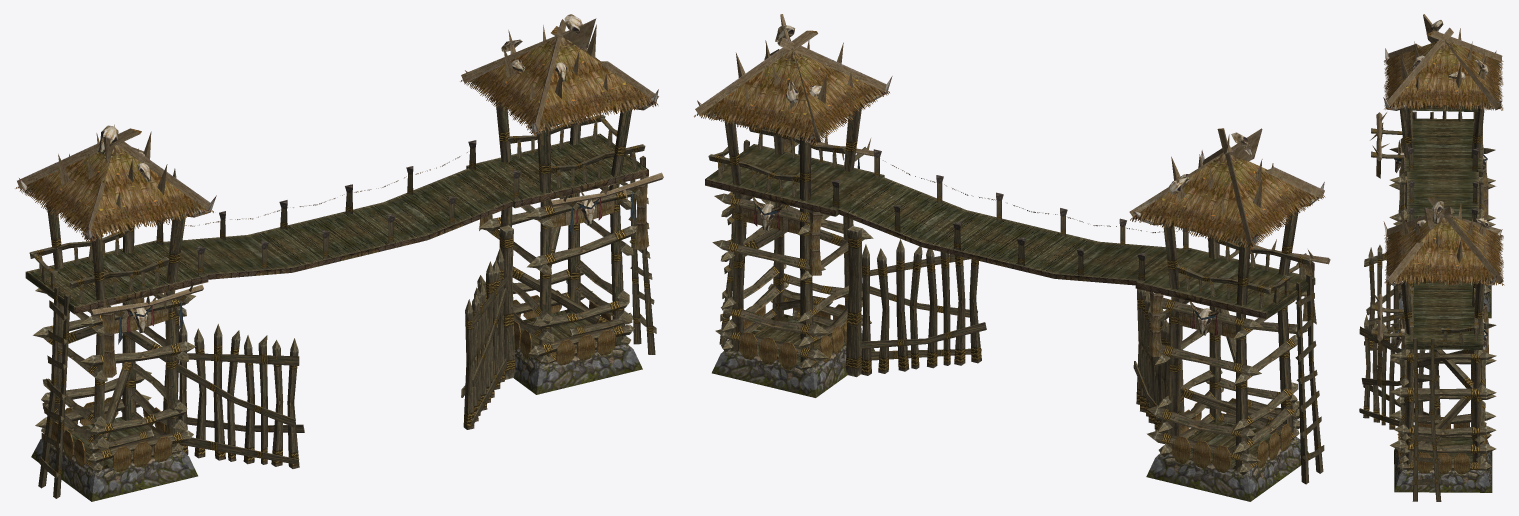
Rendered from menhuan01.FBX.
3 renders of one model, left to right at view 1: azimuth 30°, elevation 25°; view 2: azimuth 150°, elevation 25°; view 3: azimuth 270°, elevation 25°, orthographic. The views are drawn at different scales.
Parts seen in each view (by area): view 1: menguan05, menguan02, menguan01, menguan03; view 2: menguan05, menguan02, menguan01, menguan03; view 3: menguan05, menguan01, menguan02, menguan03.
Boxes of the visible parts, x1,y1,x2,y2 form: menguan05: (19,14,658,501); menguan02: (25,105,648,469); menguan01: (15,18,663,320); menguan03: (51,152,649,472); menguan05: (697,25,1324,501); menguan02: (705,116,1315,469); menguan01: (694,14,1330,264); menguan03: (739,138,1316,472); menguan05: (1359,20,1502,501); menguan01: (1370,14,1504,341); menguan02: (1404,104,1483,469); menguan03: (1376,122,1488,473).
Size of the model in its own units: 4928 by 2712 by 1295.
